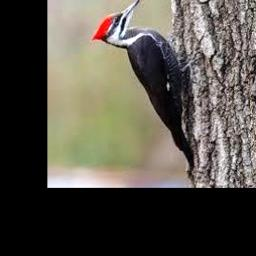Woodpecker: (91, 0, 199, 177)
